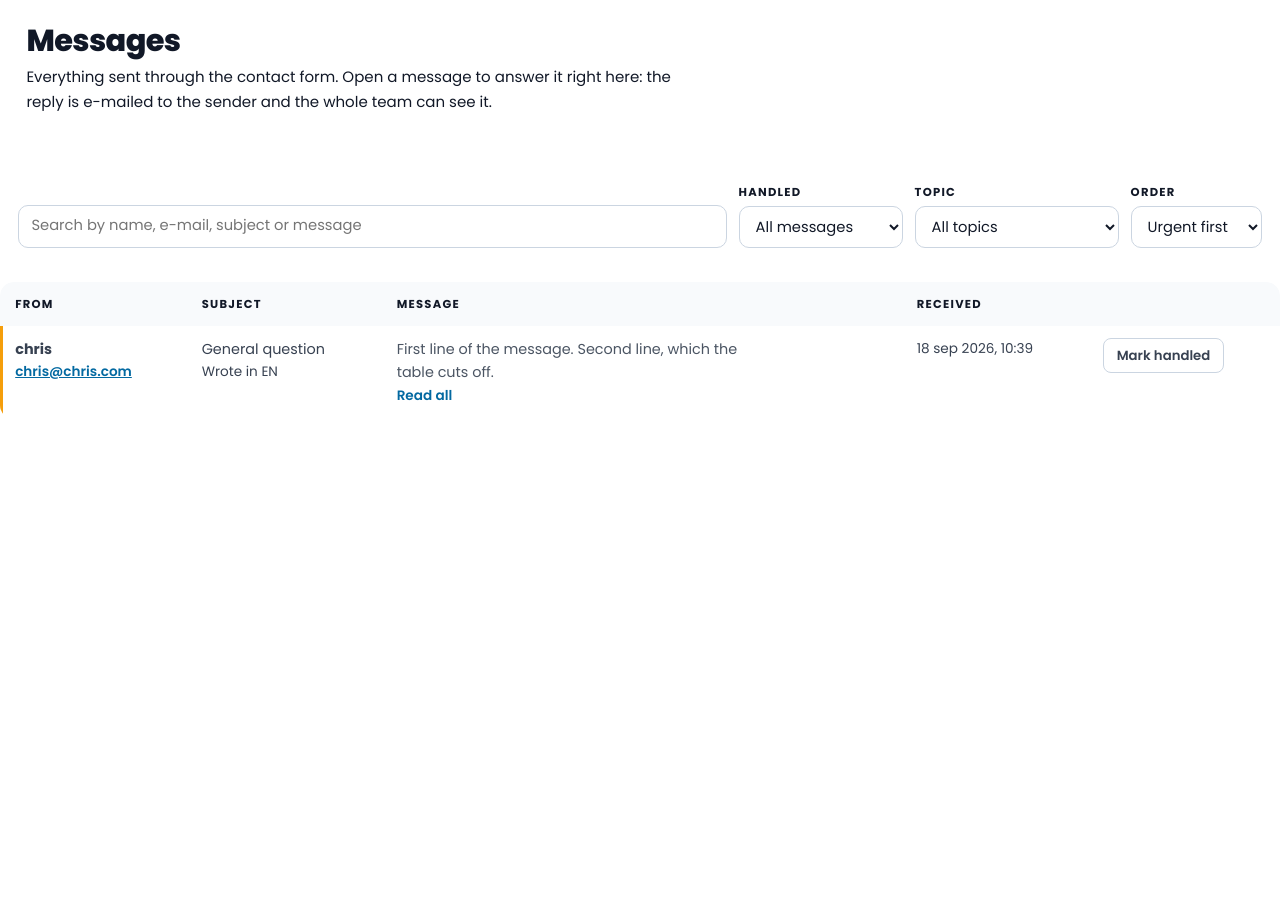
Test case: the messages pop-up › sends a reply from the pop-up and shows it as e-mailed
This screenshot has width=1280, height=900.
Click the button "Read all": (424, 396) x1=397 y1=385 x2=452 y2=407
(page scrolled)
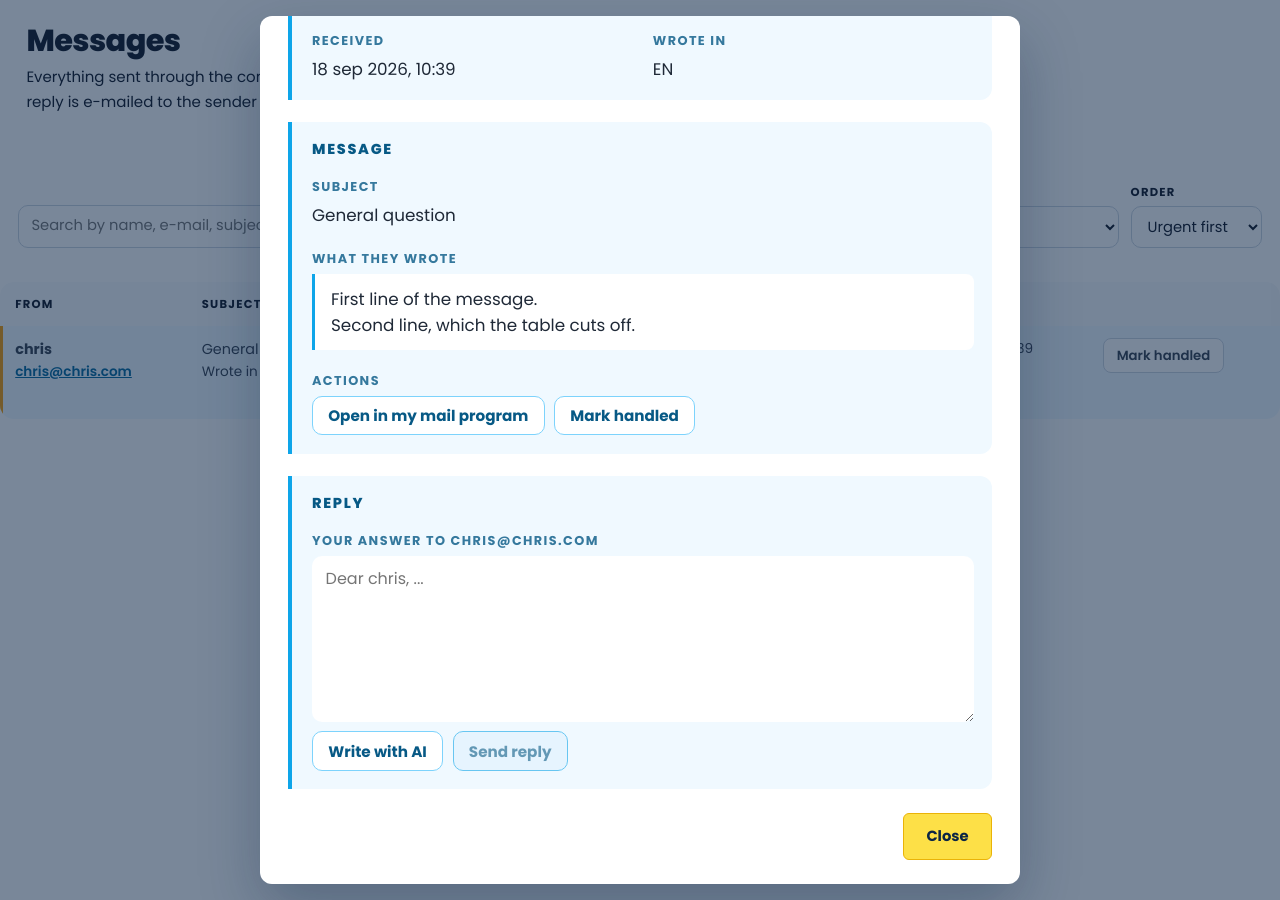
In the text box named "Your answer to chris@chris.com": (643, 639) x1=312 y1=556 x2=974 y2=722, type "Hello chris, about two weeks."
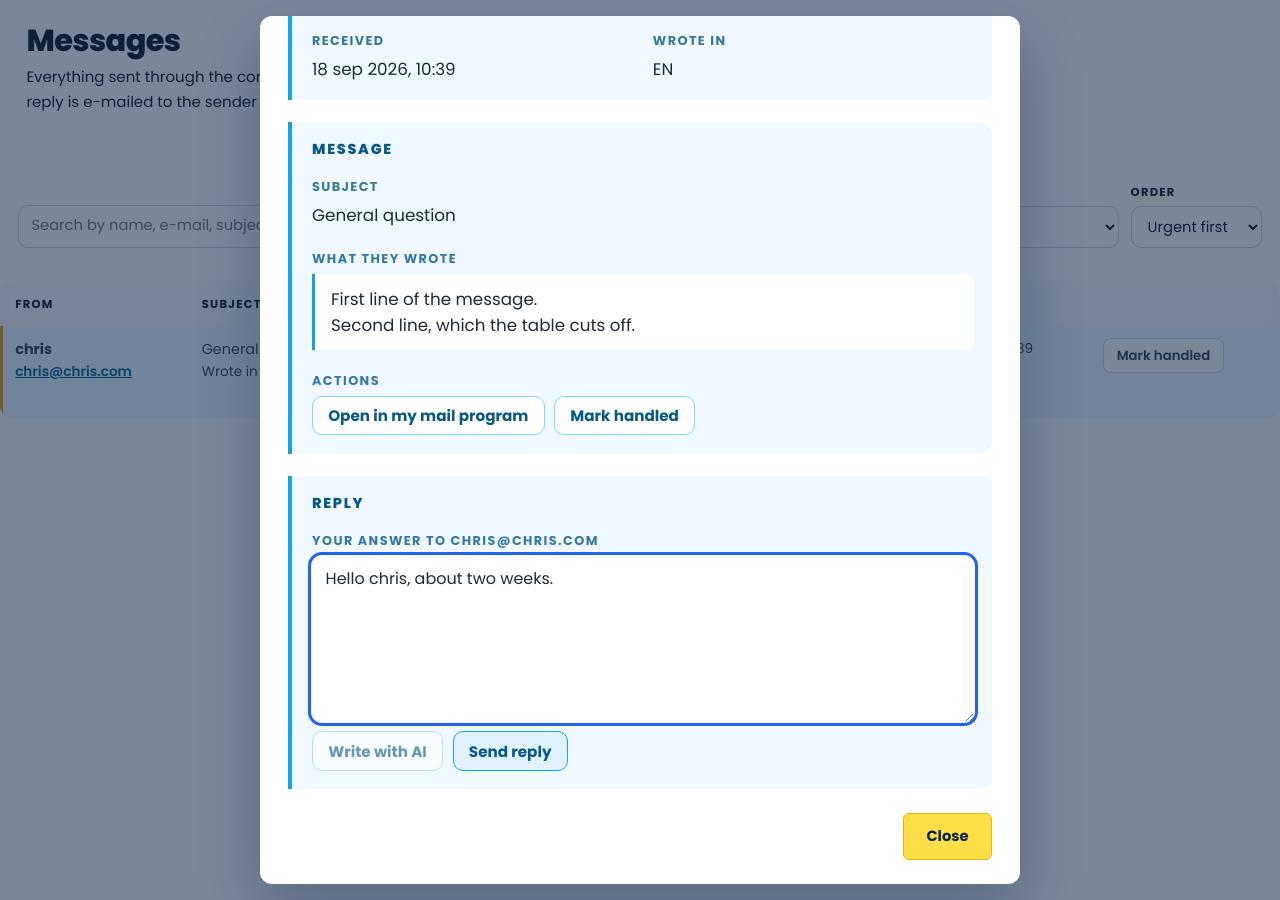
Click the button "Send reply": (510, 751) x1=453 y1=732 x2=568 y2=771
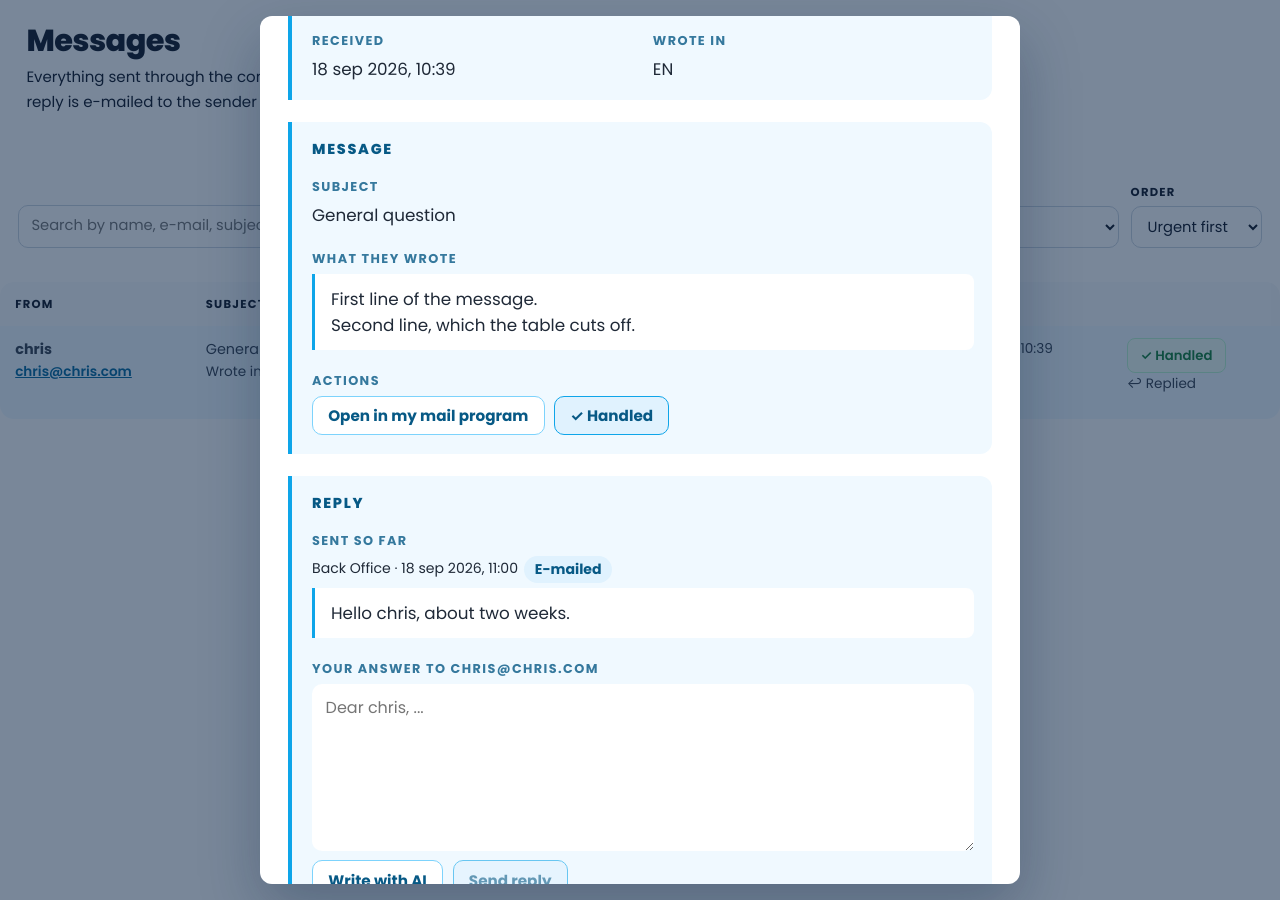
Check: the text "E-mailed" is shown, box x1=524 y1=556 x2=612 y2=583
Check: the button "✓ Handled" is shown, box x1=554 y1=396 x2=669 y2=435
